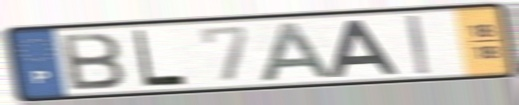7: (195, 24, 252, 84)
A: (257, 20, 340, 84), (326, 18, 402, 79)
B: (56, 30, 128, 92)
I: (403, 13, 432, 76)
L: (131, 28, 189, 89)
